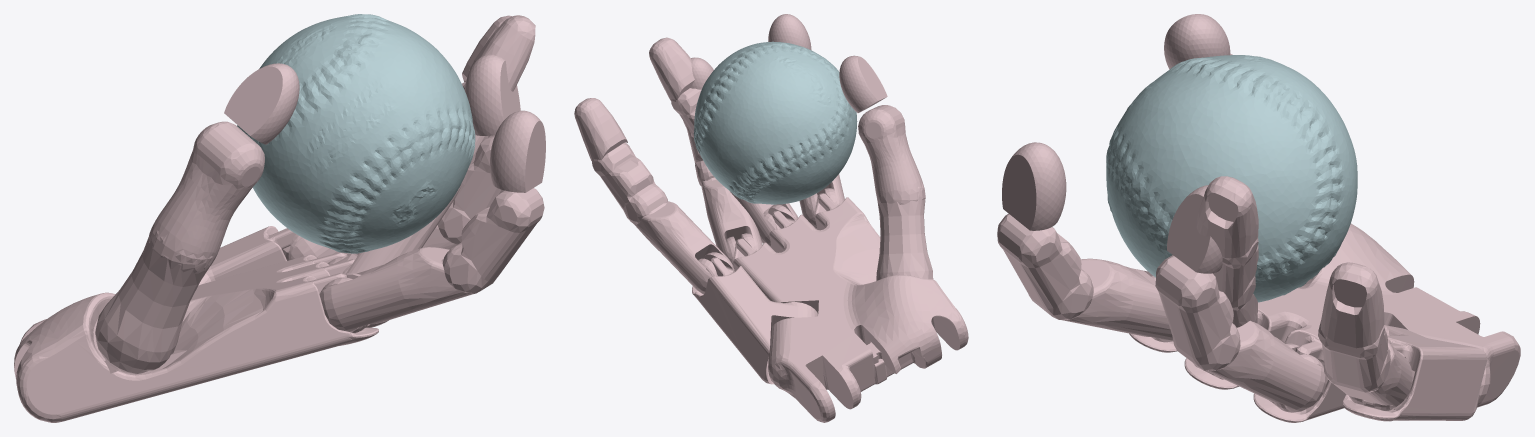
Rendered from grasp_0.glb.
3 renders of one model, left to right at view 1: azimuth 30°, elevation 25°; view 2: azimuth 150°, elevation 25°; view 3: azimuth 270°, elevation 25°, orthographic. The views are drawn at different scales.
Visible parts, largest first — view 1: world; view 2: world; view 3: world.
Boxes of the visible parts, box(x1,y1,x2,y2) form: world: box(14, 14, 545, 422); world: box(574, 14, 968, 422); world: box(997, 14, 1520, 422).
Size of the model in its own units: 0.1911 by 0.1379 by 0.1511.
